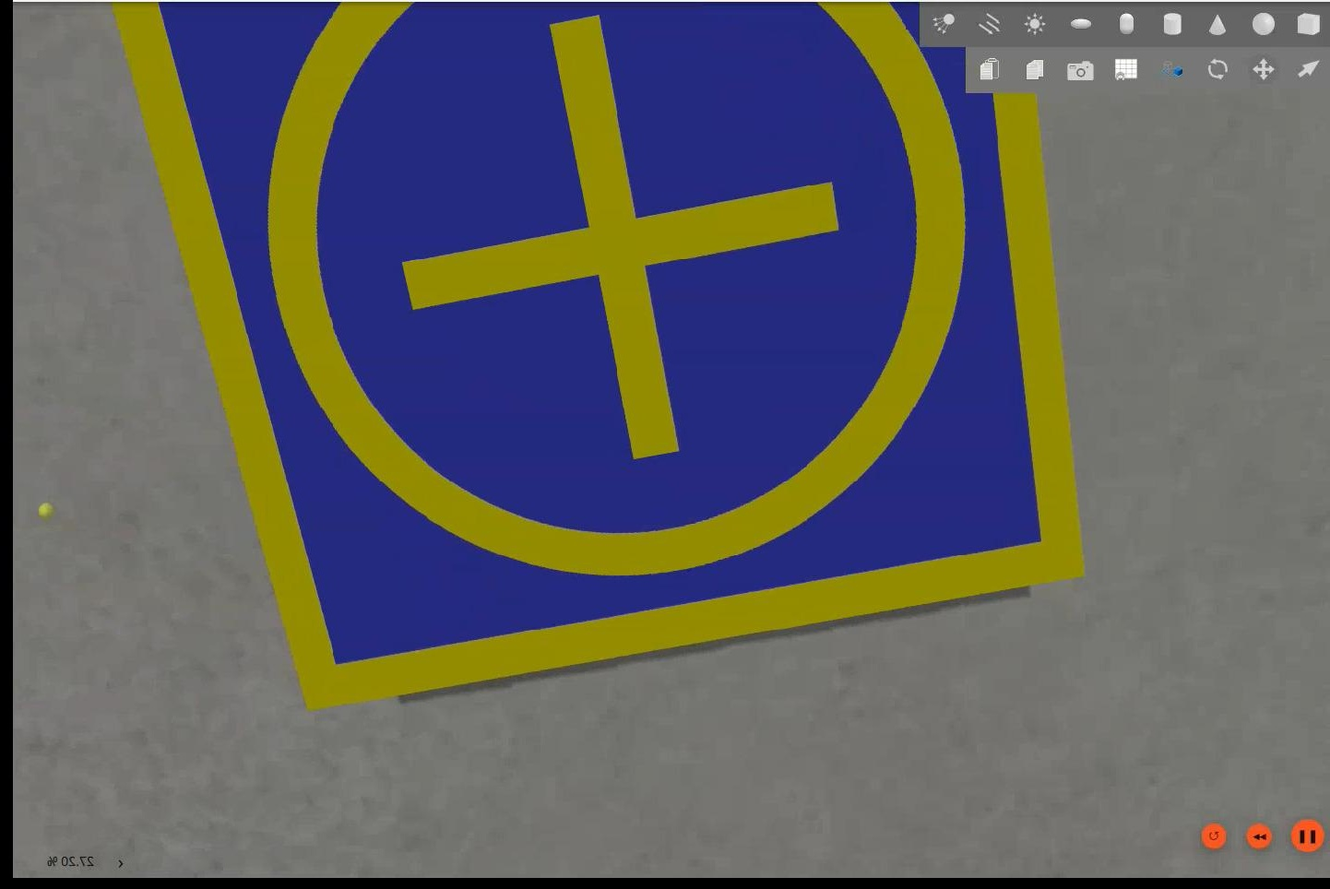small_base: (115, 1, 1087, 709)
